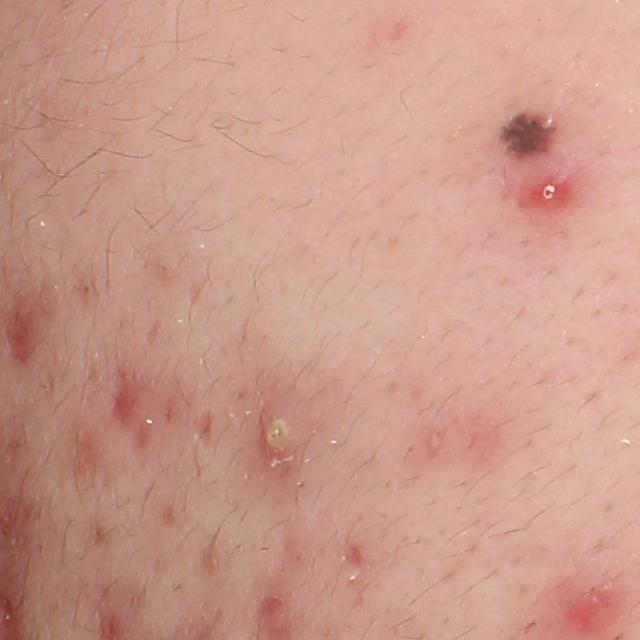atrophic_scar: (187, 407, 219, 446), (144, 318, 162, 351)
nevus: (499, 108, 555, 157)
pustule: (252, 392, 314, 470)
